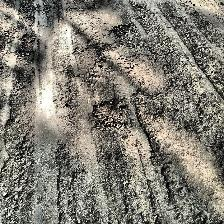pothole: (88, 97, 130, 130), (108, 23, 140, 41)
